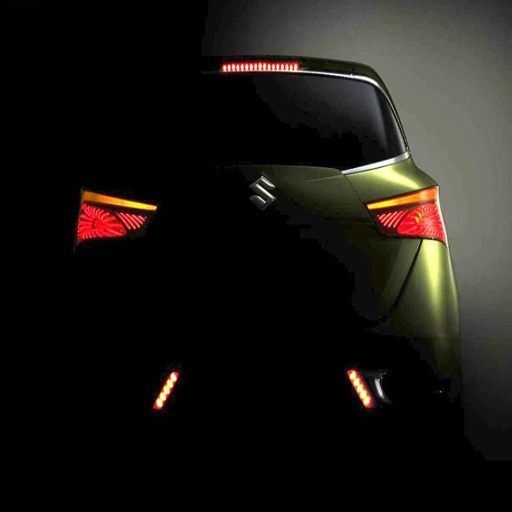back_bumper: (343, 240, 463, 384)
